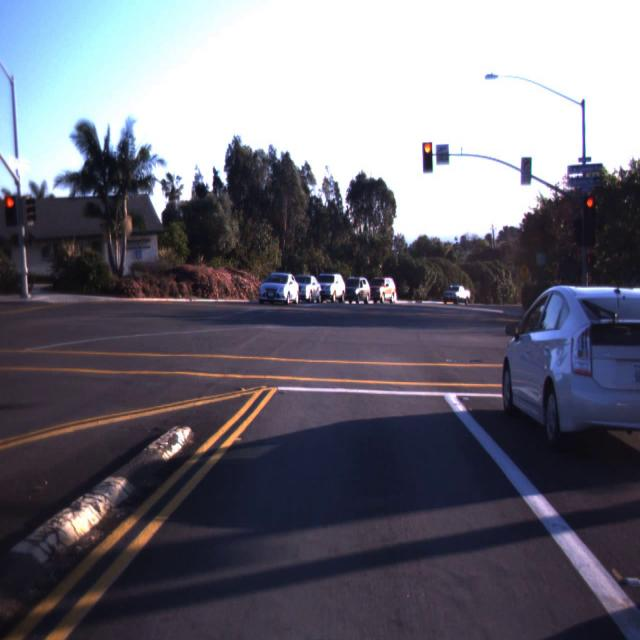arka_lamba: (521, 157, 531, 185)
kirmizi: (422, 142, 433, 172)
